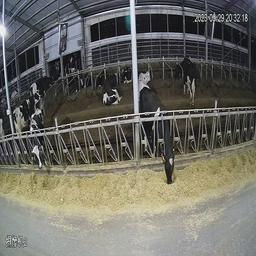cow: (139, 85, 179, 185), (24, 106, 47, 174), (173, 52, 199, 110), (10, 91, 45, 126), (30, 69, 59, 106), (97, 72, 124, 110), (73, 70, 94, 95), (121, 61, 133, 86), (141, 64, 153, 88)
